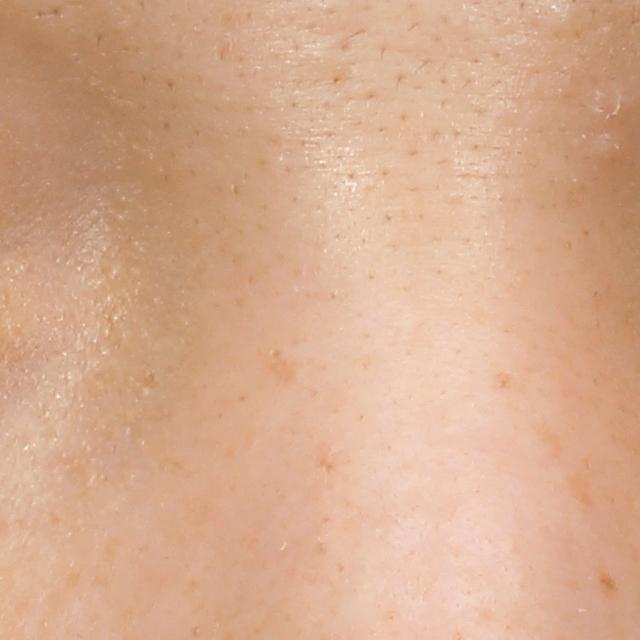melasma: (530, 419, 570, 473), (255, 346, 301, 385), (597, 562, 622, 595)
